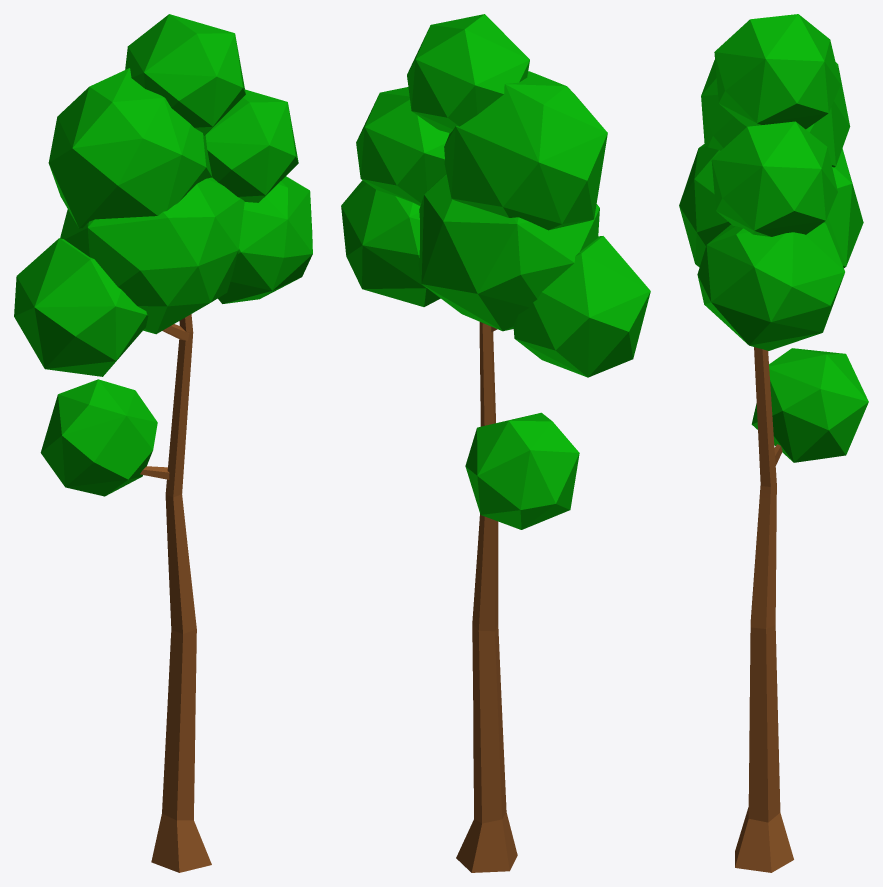
Rendered from Tree_high.fbx.
3 renders of one model, left to right at view 1: azimuth 30°, elevation 25°; view 2: azimuth 150°, elevation 25°; view 3: azimuth 270°, elevation 25°, orthographic. The views are drawn at different scales.
Visible parts, largest first — view 1: tree-birch-tall_LOD00; view 2: tree-birch-tall_LOD00; view 3: tree-birch-tall_LOD00.
Boxes of the visible parts, left/top/right/bottom form: tree-birch-tall_LOD00: left=14, top=14, right=312, bottom=872; tree-birch-tall_LOD00: left=341, top=14, right=650, bottom=872; tree-birch-tall_LOD00: left=679, top=14, right=868, bottom=872.
Size of what is drawn, in the model's own units: 289 by 796 by 162.
